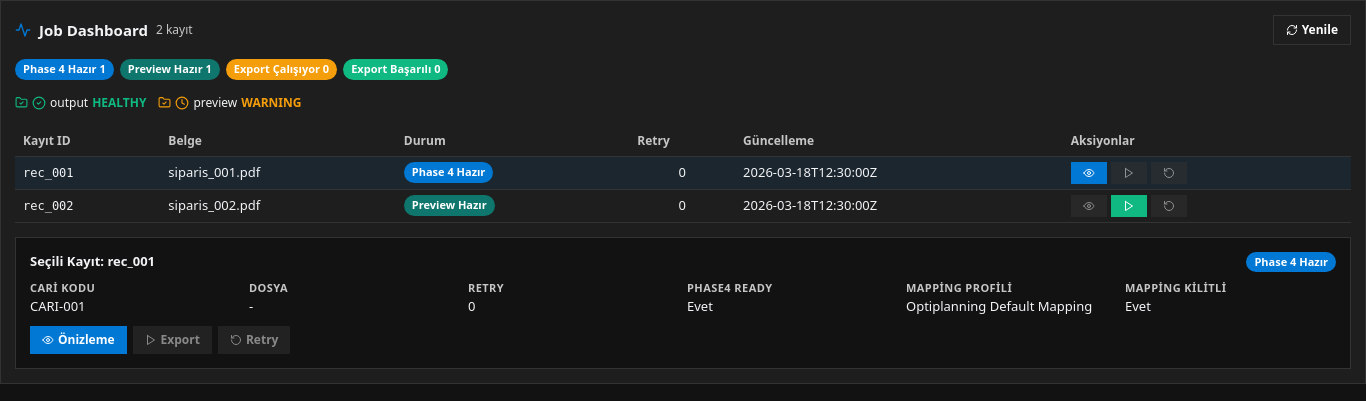
Test: JobDashboardPanel › clicking a queue row shows detail panel with record info
Expected: the text "Job Dashboard" is shown, [39,19,148,41]
Expected: the text "Seçili Kayıt: rec_001" is shown, [30,252,155,272]
// Click on second record row
Click the text "rec_002" at (88, 206), box [15,189,160,222]
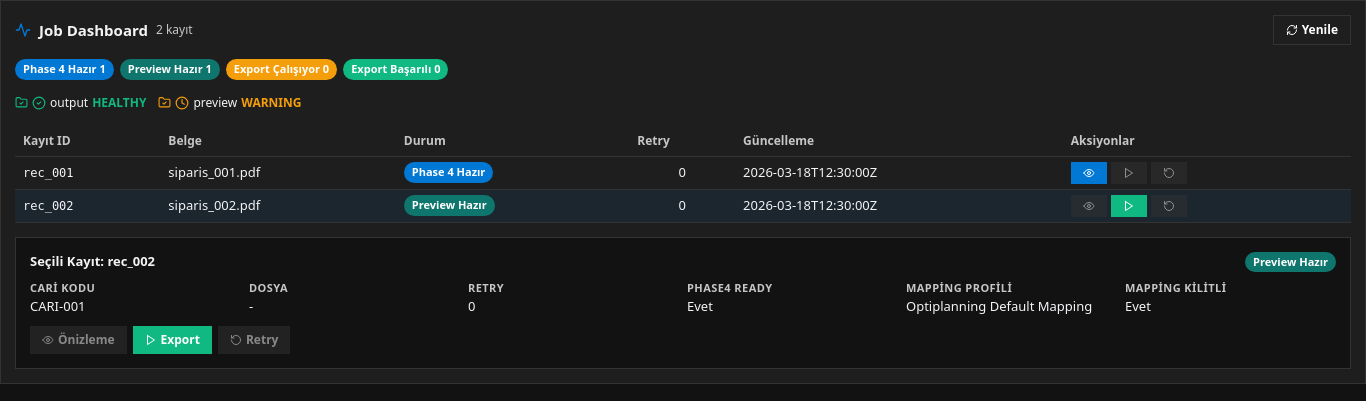
Expected: the text "Seçili Kayıt: rec_002" is shown, [30,252,155,272]
